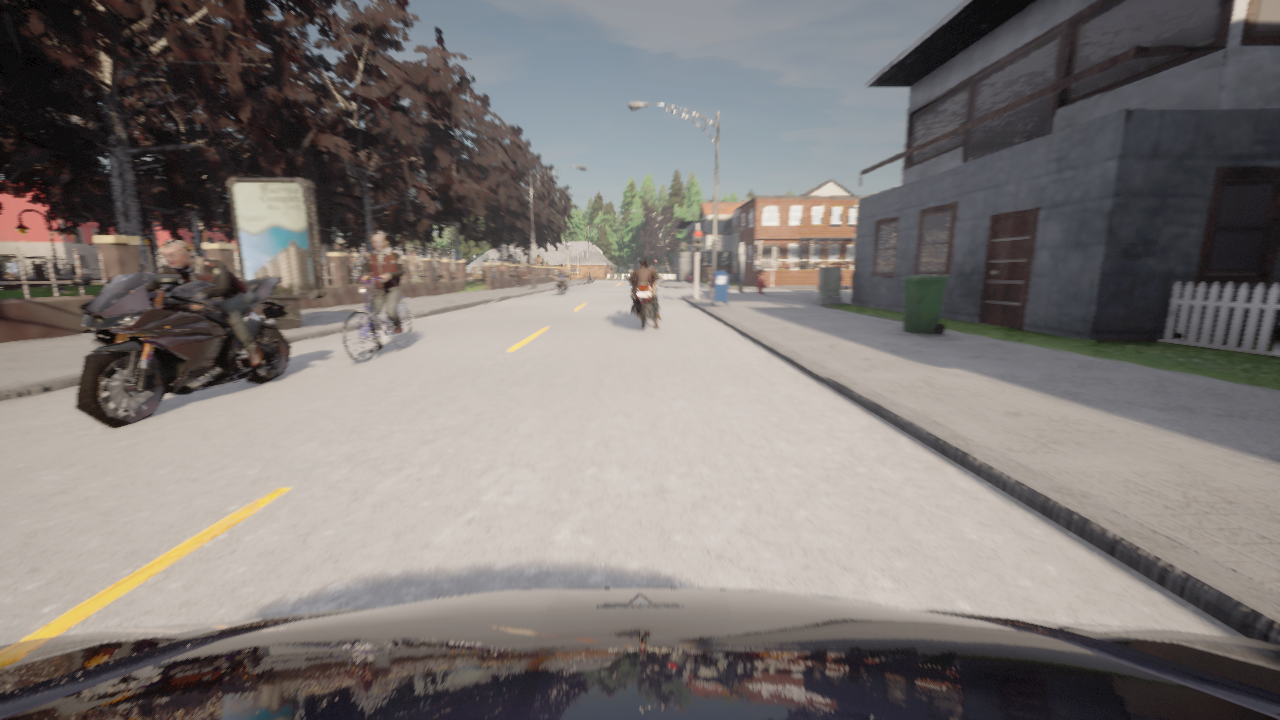cyclist: (0, 588, 1279, 719), (70, 271, 296, 429), (343, 278, 411, 363), (626, 278, 659, 329), (648, 277, 661, 319), (552, 273, 568, 296), (5, 276, 8, 278)
pedestrian: (706, 264, 711, 286)
